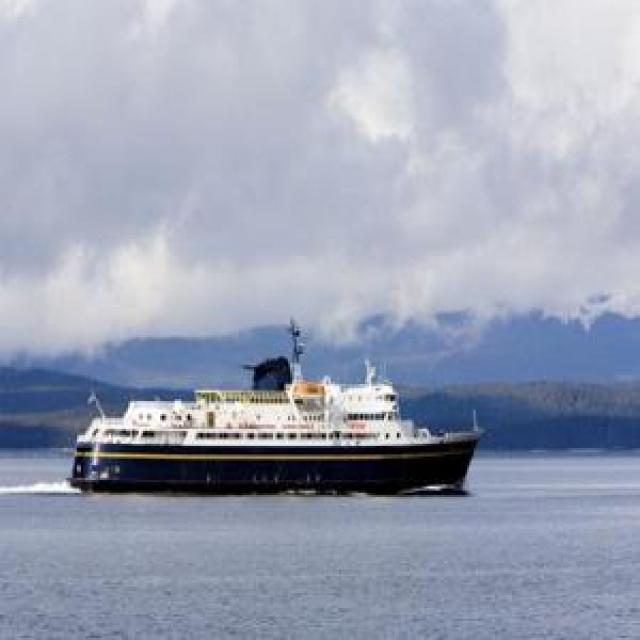passenger ship: (64, 359, 488, 496)
